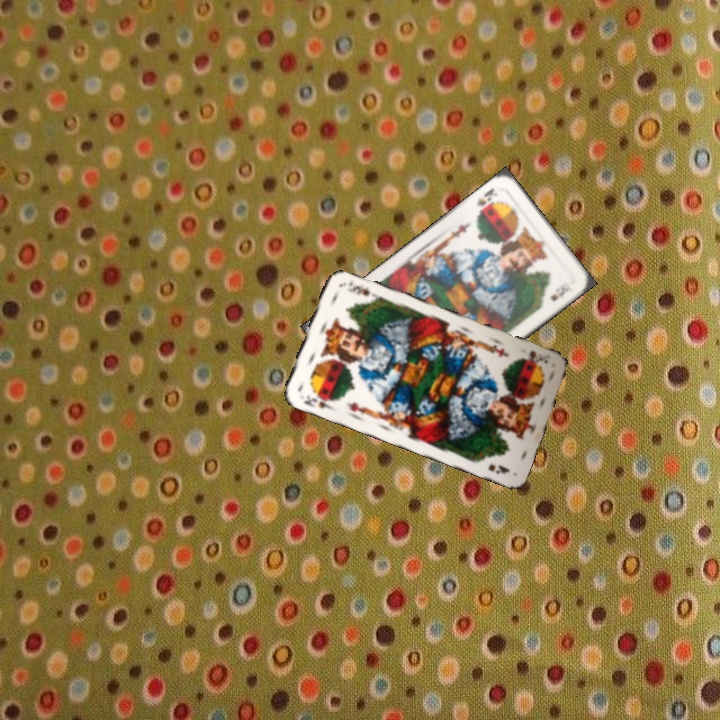SK: (300, 390, 337, 412), (472, 184, 497, 215), (525, 346, 553, 366)
